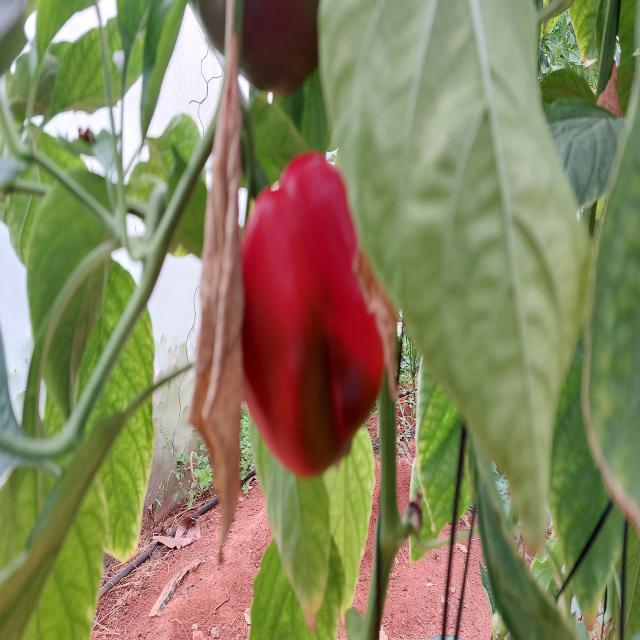Red-Ready-to-Harvest: (217, 172, 400, 450)
